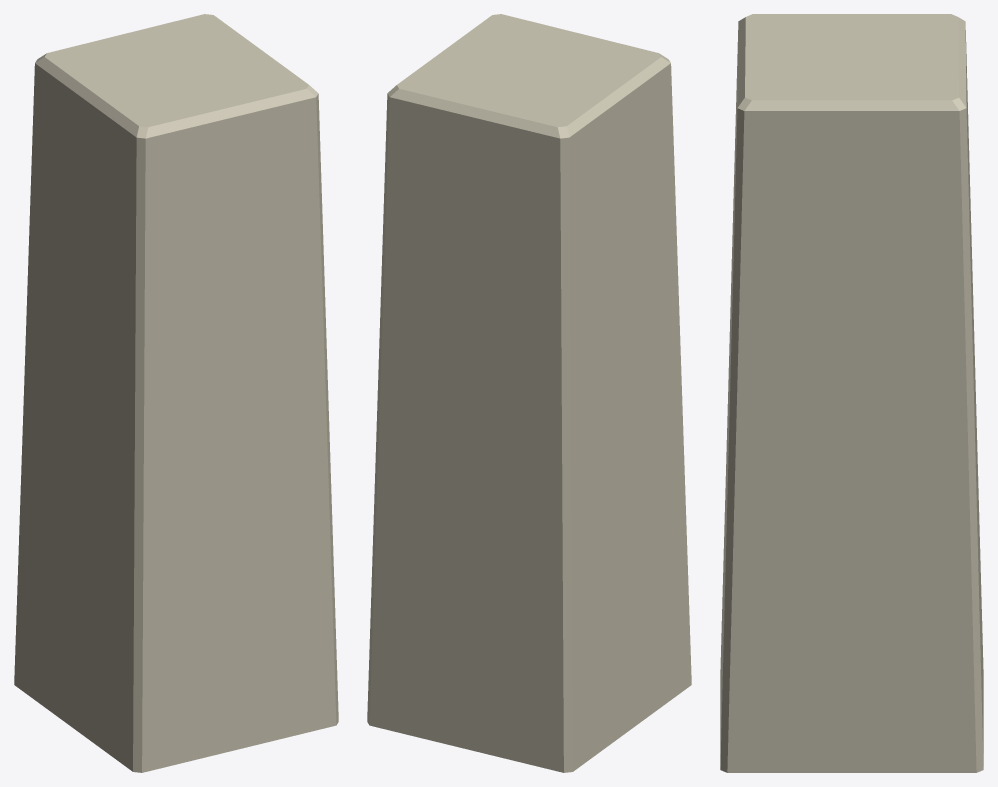
Rendered from Rock_Square_l_01 2.fbx.
The picture shows the model from 3 angles, left to right: view 1: azimuth 30°, elevation 25°; view 2: azimuth 150°, elevation 25°; view 3: azimuth 270°, elevation 25°; orthographic projection. The views are drawn at different scales.
Visible parts, largest first — view 1: Rock_Square_l_01; view 2: Rock_Square_l_01; view 3: Rock_Square_l_01.
Boxes of the visible parts, box(x1,y1,x2,y2) form: Rock_Square_l_01: box(14, 14, 338, 772); Rock_Square_l_01: box(367, 14, 691, 772); Rock_Square_l_01: box(720, 14, 983, 772).
Bounding box in the file's own units: 137 × 404 × 145.
